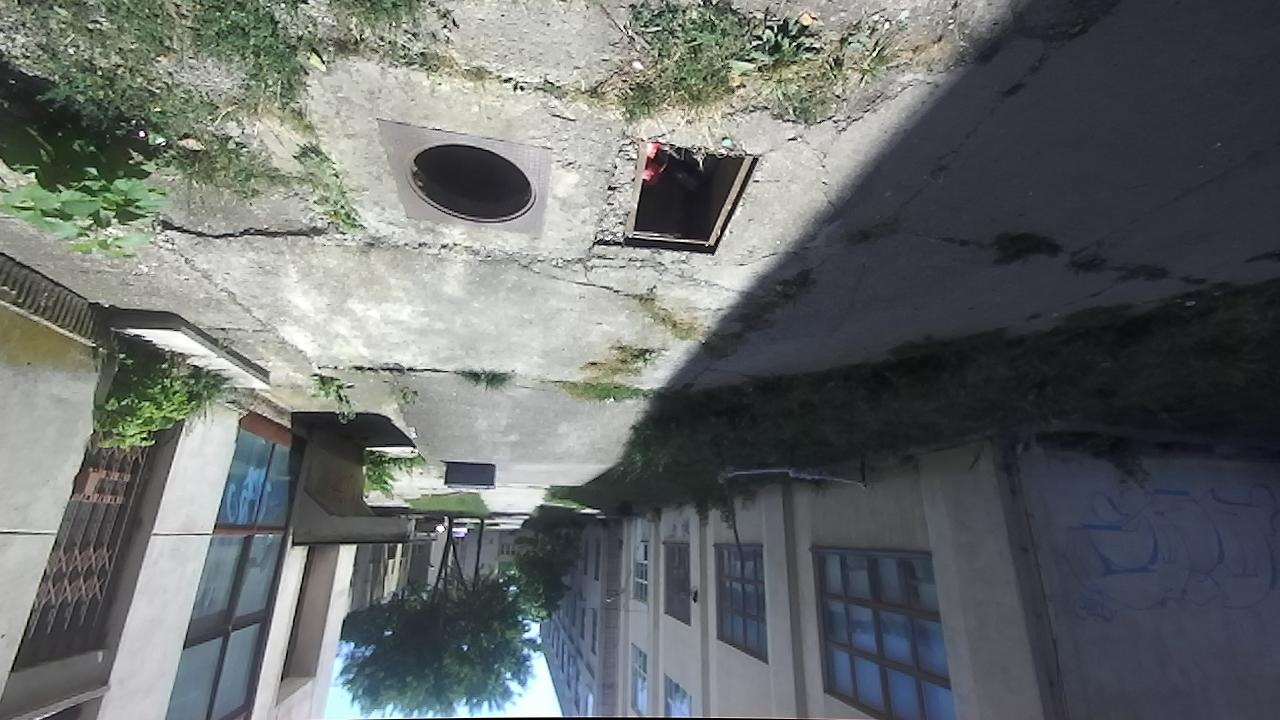drain: (616, 135, 767, 263), (403, 138, 540, 229)
